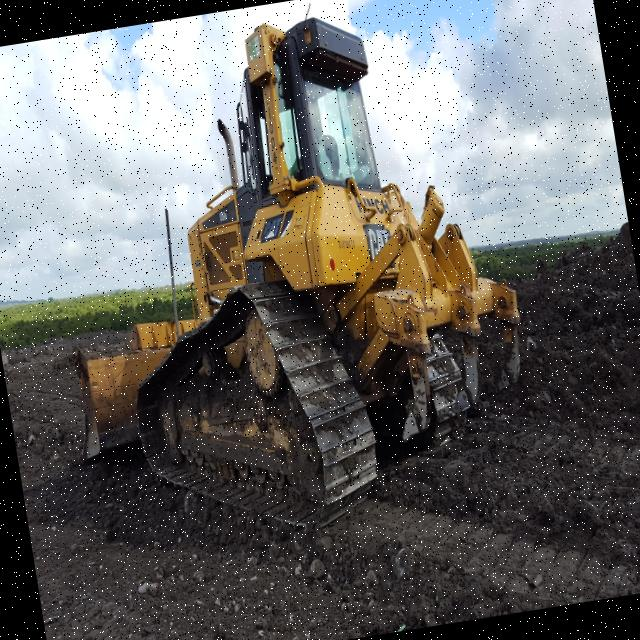Bulldozer: (18, 0, 560, 574)
